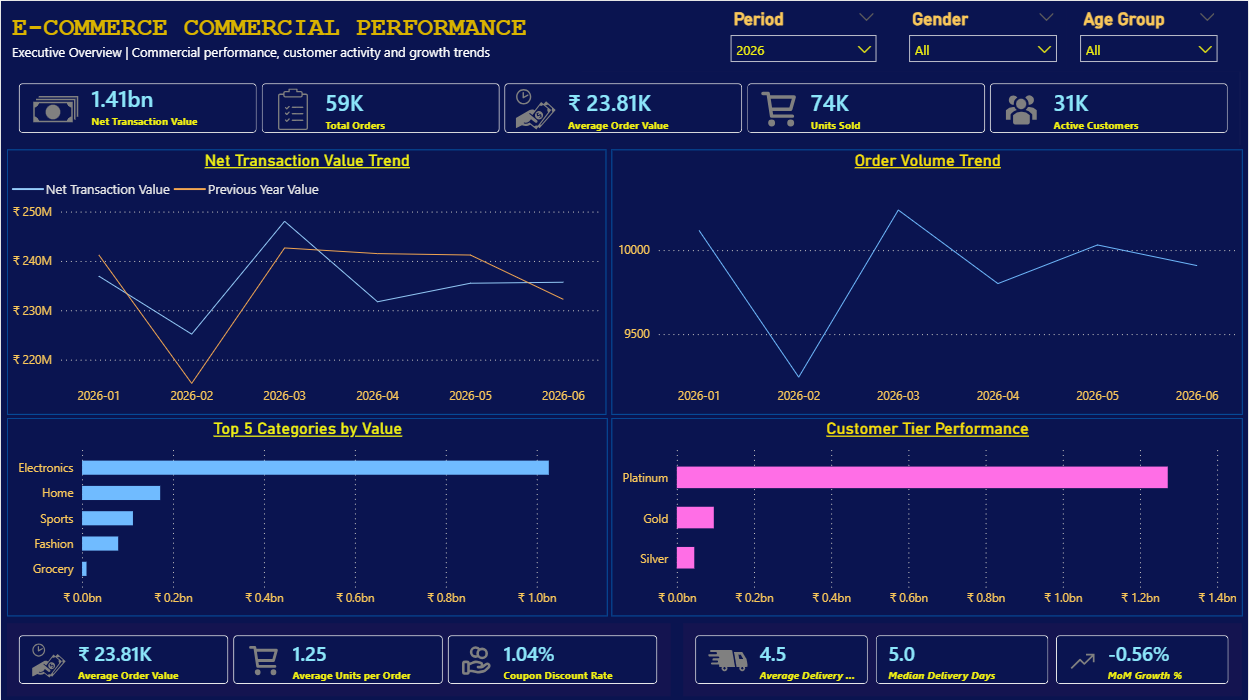

This screenshot's page, from the dashboard's own definition file:
{"tool":"powerbi","page":{"name":"Executive Overview","canvas":[1280,720],"ordinal":0},"visuals":[{"type":"slicer","fields":{"Values":["Dim_Date.Date.Variation.Date Hierarchy.Year","Dim_Date.Date.Variation.Date Hierarchy.Quarter","Dim_Date.Date.Variation.Date Hierarchy.Month","Dim_Date.Date.Variation.Date Hierarchy.Day"]},"box":[738.9,3,169.6,65.1],"z":0},{"type":"slicer","fields":{"Values":["Dim_Customers.gender"]},"box":[922.2,3,171.1,65.1],"z":1000},{"type":"slicer","fields":{"Values":["Dim_Customers.age_group"]},"box":[1096.3,3,160.5,65.1],"z":2000},{"type":"cardVisual","fields":{"Data":["_Measure.Net Transaction Value","_Measure.Total Orders","_Measure.Average Order Value","_Measure.Units Sold","_Measure.Total Customers"]},"box":[6.1,72.7,1265,75],"z":3000},{"type":"lineChart","title":"Net Transaction Value Trend","fields":{"Category":["Dim_Date.Year Month"],"Y":["_Measure.Net Transaction Value","_Measure.Previous Year Value"]},"box":[5.6,151.9,614.7,271.9],"z":4000},{"type":"lineChart","title":"Order Volume Trend","fields":{"Category":["Dim_Date.Year Month"],"Y":["_Measure.Total Orders"]},"box":[626.3,152,647.5,272.1],"z":5000},{"type":"clusteredBarChart","title":"Top 5 Categories by Value","fields":{"Category":["Dim_Products.category"],"Y":["_Measure.Net Transaction Value"]},"box":[5.7,428.3,615.9,203.4],"z":6000},{"type":"clusteredBarChart","title":"Customer Tier Performance","fields":{"Category":["Dim_Customers.customer_tier"],"Y":["_Measure.Net Transaction Value"]},"box":[626.4,428.1,647.2,203.5],"z":7000},{"type":"cardVisual","fields":{"Data":["_Measure.Average Order Value","_Measure.Average Units per Order","_Measure.Coupon Discount Rate"]},"box":[5.7,638.8,680.4,74.5],"z":8000},{"type":"cardVisual","fields":{"Data":["_Measure.Average Delivery Days","_Measure.Median Delivery Days","_Measure.MoM Growth %"]},"box":[700.4,638.8,573,74.5],"z":9000},{"type":"textbox","box":[6.2,7.8,589.1,65.6],"z":10000}]}

Visuals, with their boxes in screenshot pixels (x1, y1, x2, y2), scaled from the page's 1280x720 canvas onto the 1249x700 screenshot:
slicer - Dim_Date.Date.Variation.Date Hierarchy.Year x Dim_Date.Date.Variation.Date Hierarchy.Quarter: detection(721, 3, 886, 66)
slicer - Dim_Customers.gender: detection(900, 3, 1067, 66)
slicer - Dim_Customers.age_group: detection(1070, 3, 1226, 66)
cardVisual - _Measure.Net Transaction Value x _Measure.Total Orders: detection(6, 71, 1240, 144)
"Net Transaction Value Trend" lineChart: detection(5, 148, 605, 412)
"Order Volume Trend" lineChart: detection(611, 148, 1243, 412)
"Top 5 Categories by Value" clusteredBarChart: detection(6, 416, 607, 614)
"Customer Tier Performance" clusteredBarChart: detection(611, 416, 1243, 614)
cardVisual - _Measure.Average Order Value x _Measure.Average Units per Order: detection(6, 621, 669, 693)
cardVisual - _Measure.Average Delivery Days x _Measure.Median Delivery Days: detection(683, 621, 1243, 693)
textbox: detection(6, 8, 581, 71)
